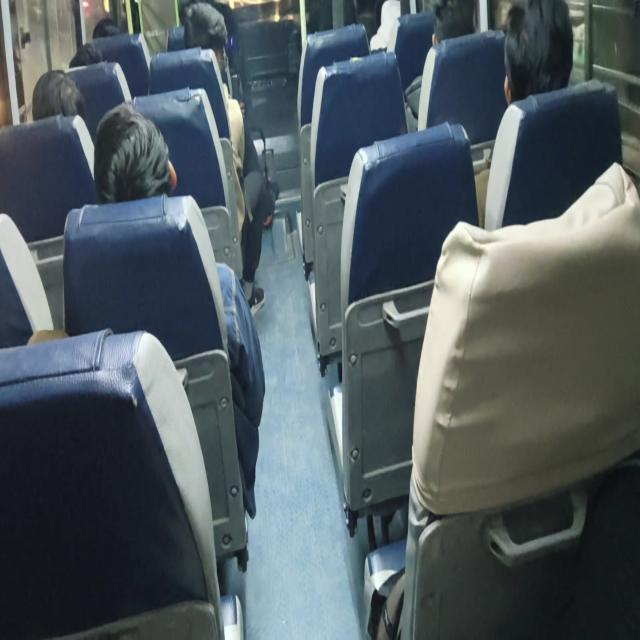person: (494, 0, 572, 108), (90, 113, 169, 215), (15, 70, 84, 136), (176, 12, 236, 86), (428, 0, 492, 65), (81, 11, 136, 44), (61, 51, 111, 72)
